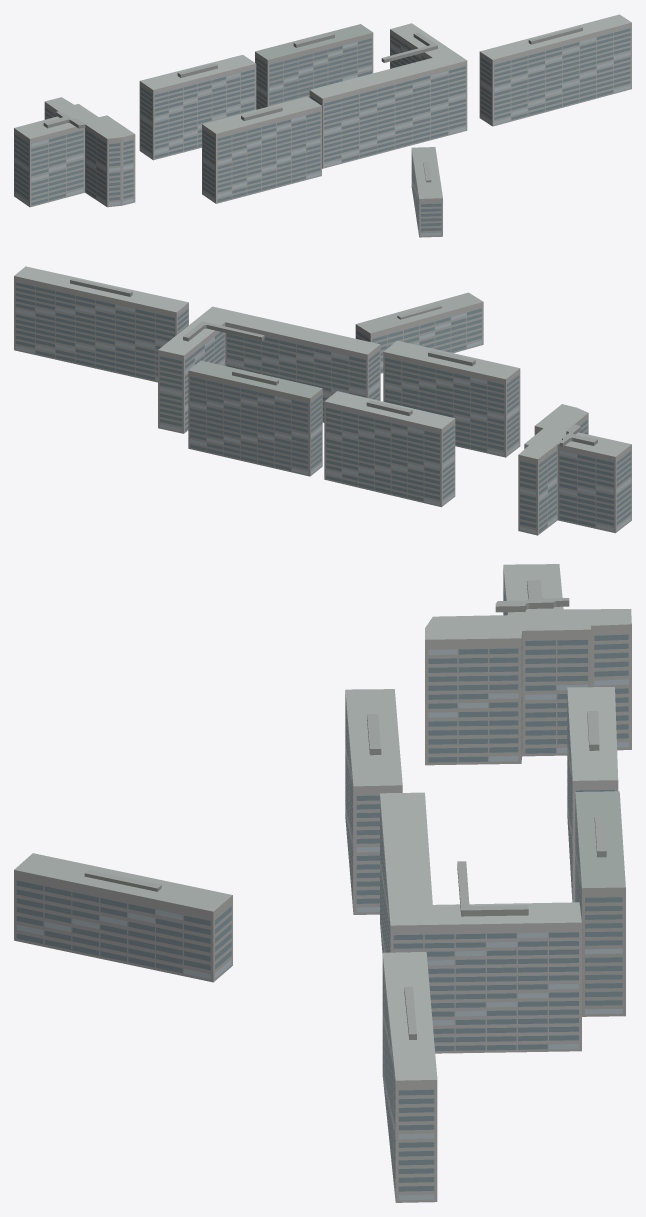
File: apt-a13286107.glb
3 views of the same model, one above another, from view 1: azimuth 30°, elevation 25°; view 2: azimuth 150°, elevation 25°; view 3: azimuth 270°, elevation 25° (orthographic). The views are drawn at different scales.
Visible parts, largest first — view 1: apt-a13286107; view 2: apt-a13286107; view 3: apt-a13286107.
Boxes of the visible parts, x1,y1,x2,y2 form: apt-a13286107: [14, 14, 631, 237]; apt-a13286107: [14, 266, 631, 535]; apt-a13286107: [14, 564, 631, 1202].
Bounding box in the file's own units: 327 × 40 × 166.
